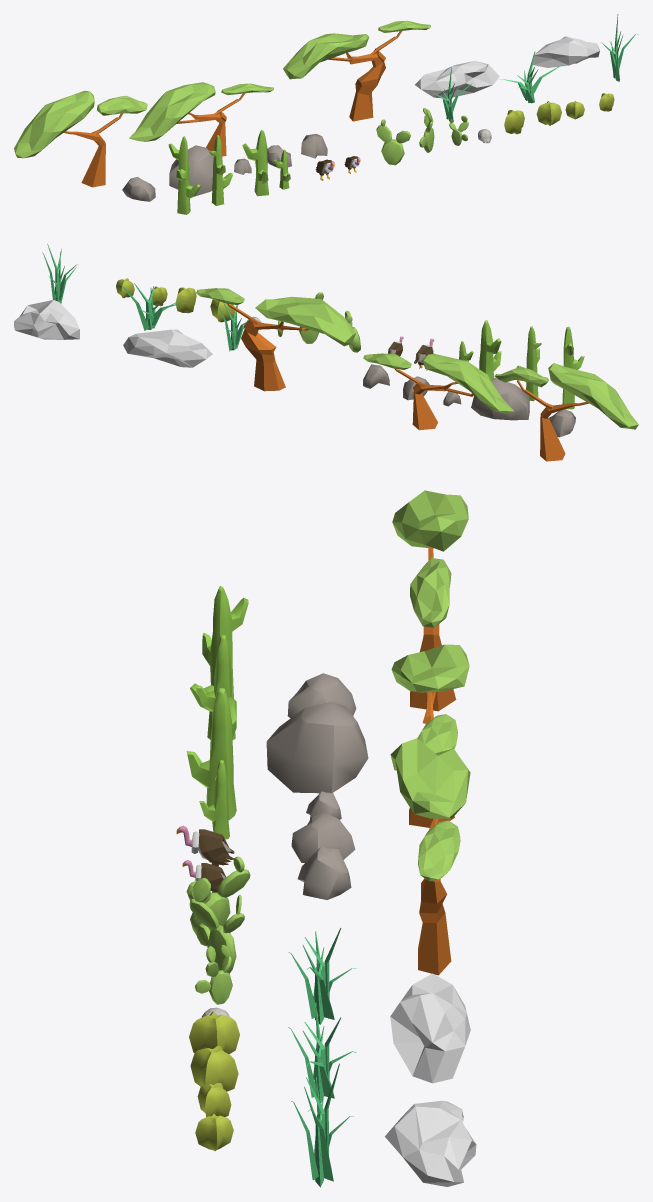
File: assets.glb
3 views of the same model, one above another, from view 1: azimuth 30°, elevation 25°; view 2: azimuth 150°, elevation 25°; view 3: azimuth 270°, elevation 25° (orthographic). The views are drawn at different scales.
Parts seen in each view (by area): view 1: tree1, tree3, tree2, obstacle1, obstacle2, rock2, saguaro1, saguaro3, nopal3, saguaro2, rock1, plant2 (+9 smaller); view 2: tree3, tree1, tree2, obstacle1, obstacle2, rock2, saguaro3, plant2, saguaro1, saguaro2, plant3, rock1 (+4 smaller); view 3: tree3, rock2, tree1, obstacle1, obstacle2, tree2, saguaro3, saguaro1, nopal2, rock5, rock4, plant3 (+11 smaller).
Part boxes in pixels (bbox=[...]): tree1: bbox=[14, 90, 147, 187]; tree3: bbox=[283, 20, 430, 121]; tree2: bbox=[129, 82, 273, 156]; obstacle1: bbox=[415, 61, 499, 98]; obstacle2: bbox=[533, 36, 599, 67]; rock2: bbox=[169, 145, 213, 196]; saguaro1: bbox=[168, 136, 200, 214]; saguaro3: bbox=[242, 130, 268, 196]; nopal3: bbox=[376, 119, 410, 165]; saguaro2: bbox=[208, 135, 232, 205]; rock1: bbox=[122, 177, 155, 201]; plant2: bbox=[499, 51, 563, 103]; tree3: bbox=[196, 288, 355, 391]; tree1: bbox=[495, 363, 638, 461]; tree2: bbox=[363, 353, 514, 430]; obstacle1: bbox=[123, 329, 212, 367]; obstacle2: bbox=[14, 300, 79, 339]; rock2: bbox=[471, 378, 529, 420]; saguaro3: bbox=[479, 320, 501, 379]; plant2: bbox=[119, 283, 186, 330]; saguaro1: bbox=[562, 326, 584, 409]; saguaro2: bbox=[516, 326, 541, 401]; plant3: bbox=[42, 243, 78, 303]; rock1: bbox=[549, 409, 575, 437]; tree3: bbox=[390, 738, 470, 975]; rock2: bbox=[266, 701, 368, 793]; tree1: bbox=[392, 490, 468, 711]; obstacle1: bbox=[390, 973, 470, 1083]; obstacle2: bbox=[385, 1100, 476, 1186]; tree2: bbox=[391, 644, 469, 827]; saguaro3: bbox=[186, 688, 236, 820]; saguaro1: bbox=[190, 586, 248, 739]; nopal2: bbox=[189, 877, 244, 973]; rock5: bbox=[297, 846, 351, 899]; rock4: bbox=[291, 813, 355, 862]; plant3: bbox=[291, 1063, 353, 1187].
Bounding box in the file's own units: 11.44 × 1.67 × 2.5.
